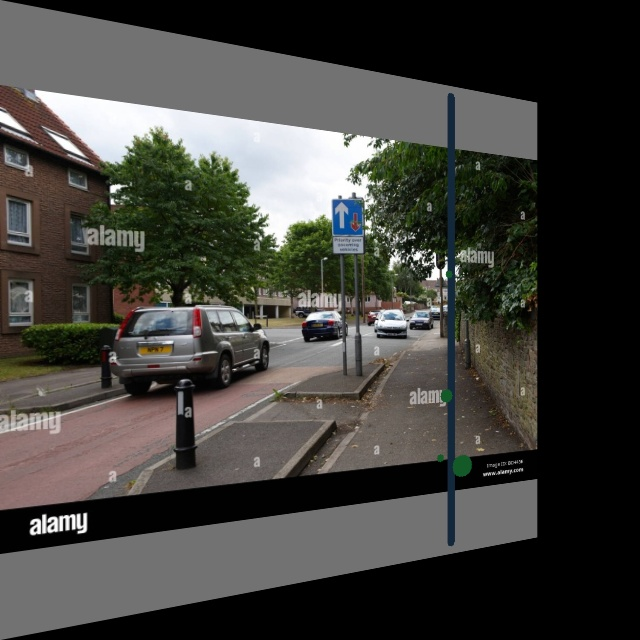Priority_for_Oncoming_Traffic: (331, 197, 365, 237)
